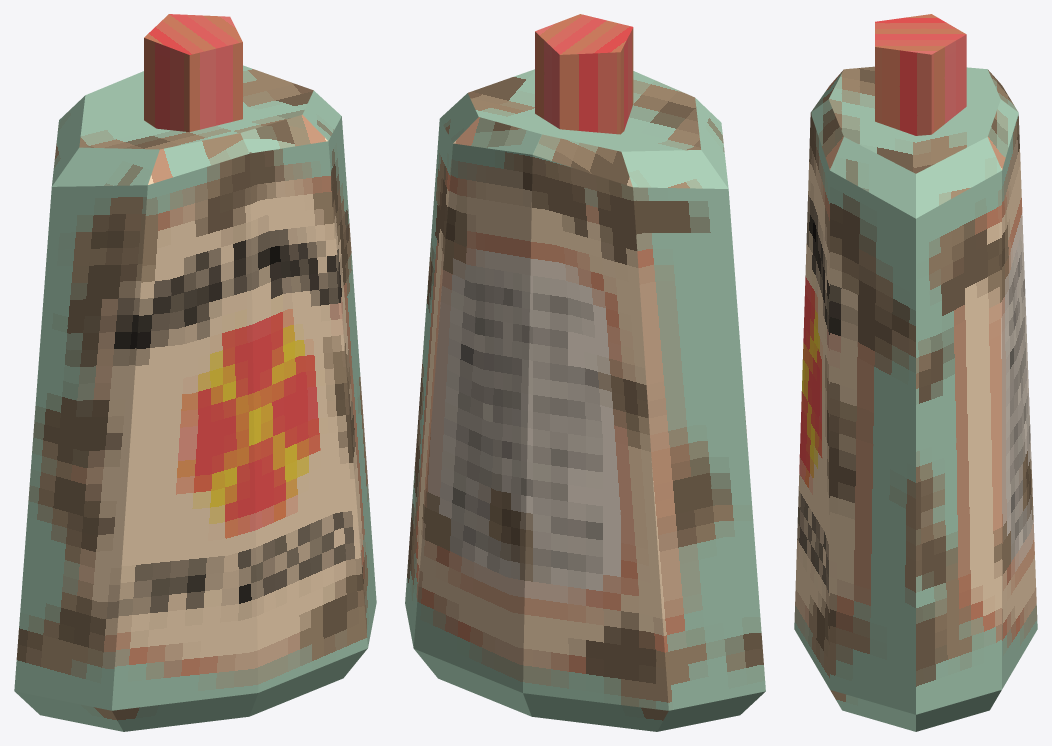
File: RadShield.glb
The picture shows the model from 3 angles, left to right: view 1: azimuth 30°, elevation 25°; view 2: azimuth 150°, elevation 25°; view 3: azimuth 270°, elevation 25°; orthographic projection. The views are drawn at different scales.
Parts seen in each view (by area): view 1: Bottle, Cap; view 2: Bottle, Cap; view 3: Bottle, Cap.
Part boxes in pixels (left/top/right/bottom): Bottle: left=14, top=65, right=376, bottom=731; Cap: left=144, top=14, right=242, bottom=132; Bottle: left=405, top=69, right=765, bottom=731; Cap: left=535, top=14, right=633, bottom=134; Bottle: left=794, top=66, right=1037, bottom=731; Cap: left=875, top=14, right=966, bottom=135.
Bounding box in the file's own units: 0.64 × 1.09 × 0.3844.
2 materials, 2 textured.
